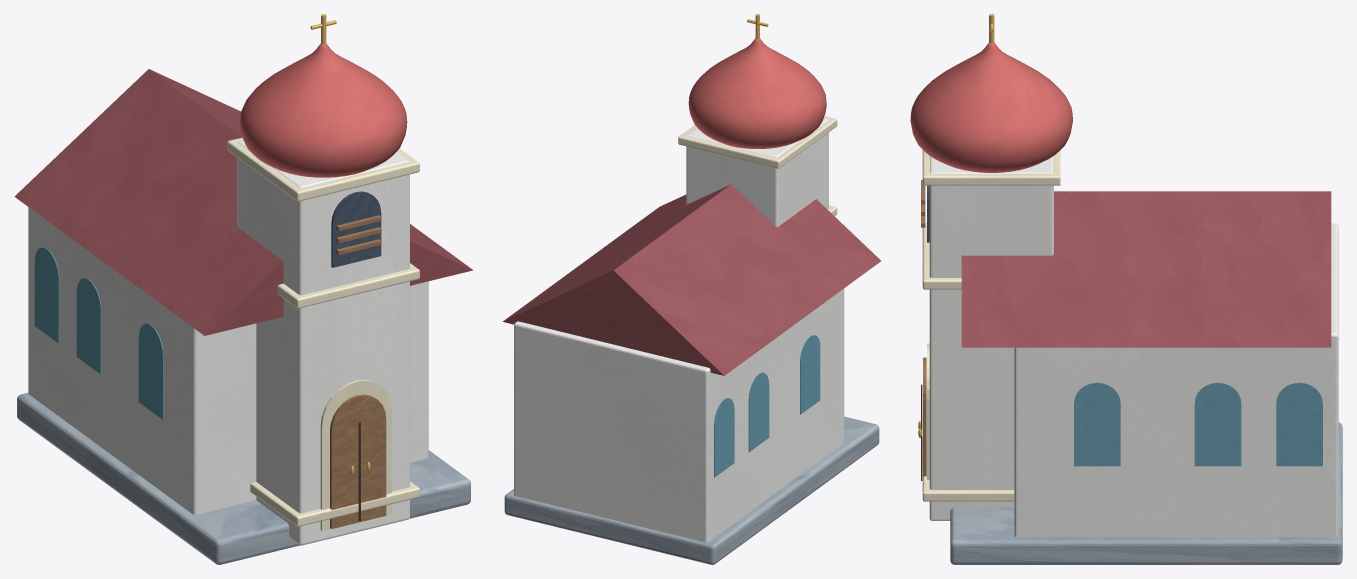
File: chapel.glb
3 views of the same model, side by side, from view 1: azimuth 30°, elevation 25°; view 2: azimuth 150°, elevation 25°; view 3: azimuth 270°, elevation 25° (orthographic). The views are drawn at different scales.
Visible parts, largest first — view 1: chapel; view 2: chapel; view 3: chapel.
Part boxes in pixels (x1,y1,x2,y2): chapel: (14, 14, 472, 564); chapel: (502, 14, 880, 564); chapel: (910, 14, 1342, 564).
Bounding box in the file's own units: 4 × 7.18 × 5.73.
1 material, 1 textured.
